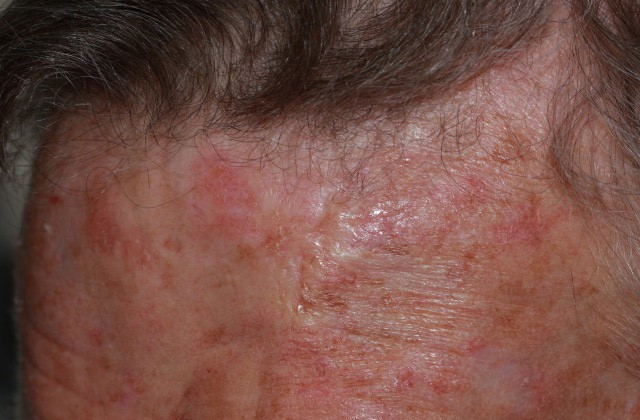Basa Cell Carcinoma: (43, 172, 589, 417)
